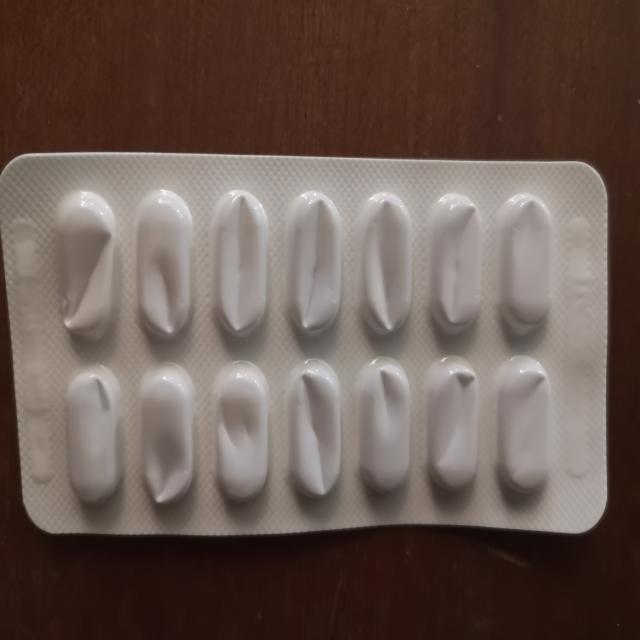Empty: (47, 186, 123, 343), (282, 181, 348, 344), (208, 182, 273, 346), (207, 358, 277, 509), (131, 360, 203, 506), (130, 187, 196, 344), (492, 354, 560, 506), (280, 353, 348, 504), (421, 350, 487, 504), (496, 186, 559, 345), (58, 361, 126, 506), (424, 189, 489, 340), (355, 352, 419, 504), (355, 183, 416, 340)
